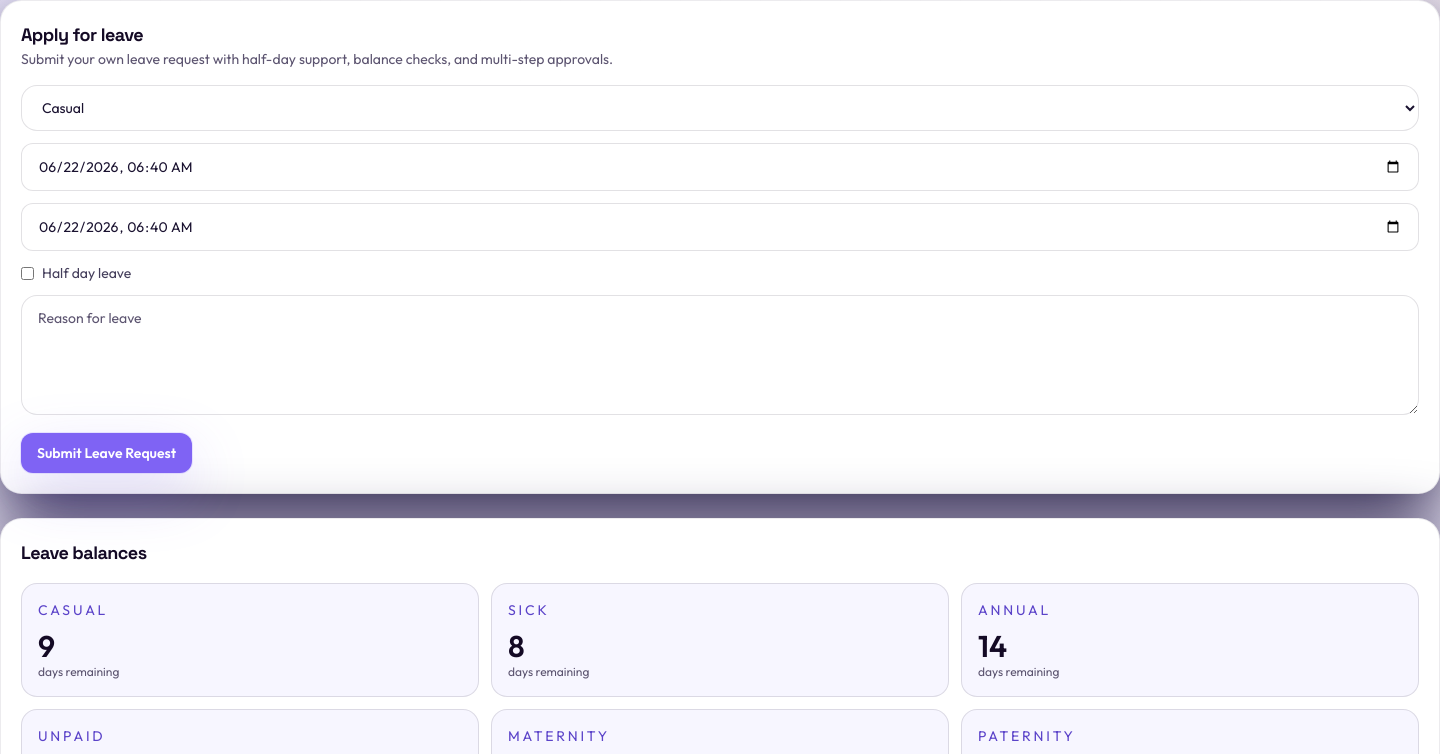
LeavePage › submits a leave request for an employee user
Select "Annual" in the dropdown at (720, 108), box x1=21 y1=85 x2=1419 y2=131
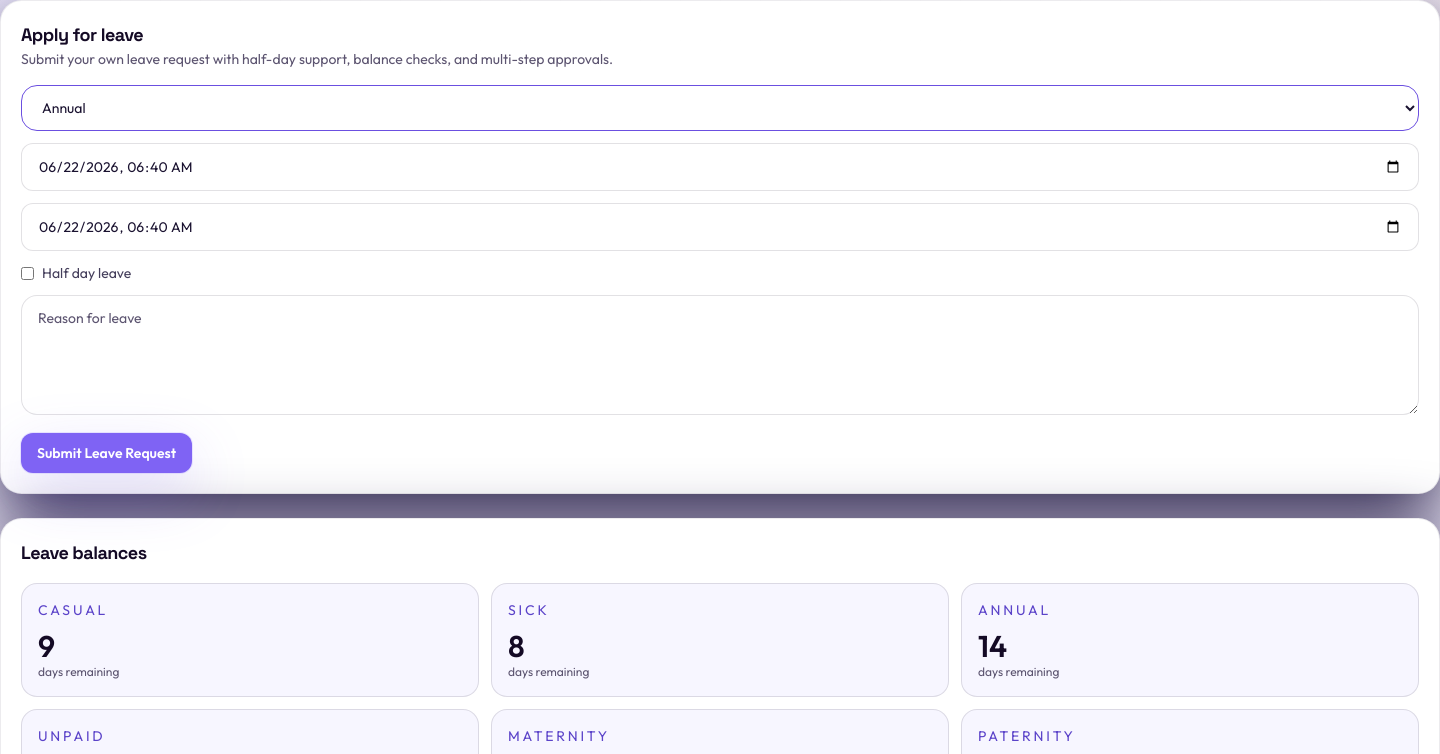
Type "Annual leave for family travel" into the text box with placeholder "Reason for leave".
click(720, 355); type("Annual leave for family travel")  # box x1=21 y1=295 x2=1419 y2=415
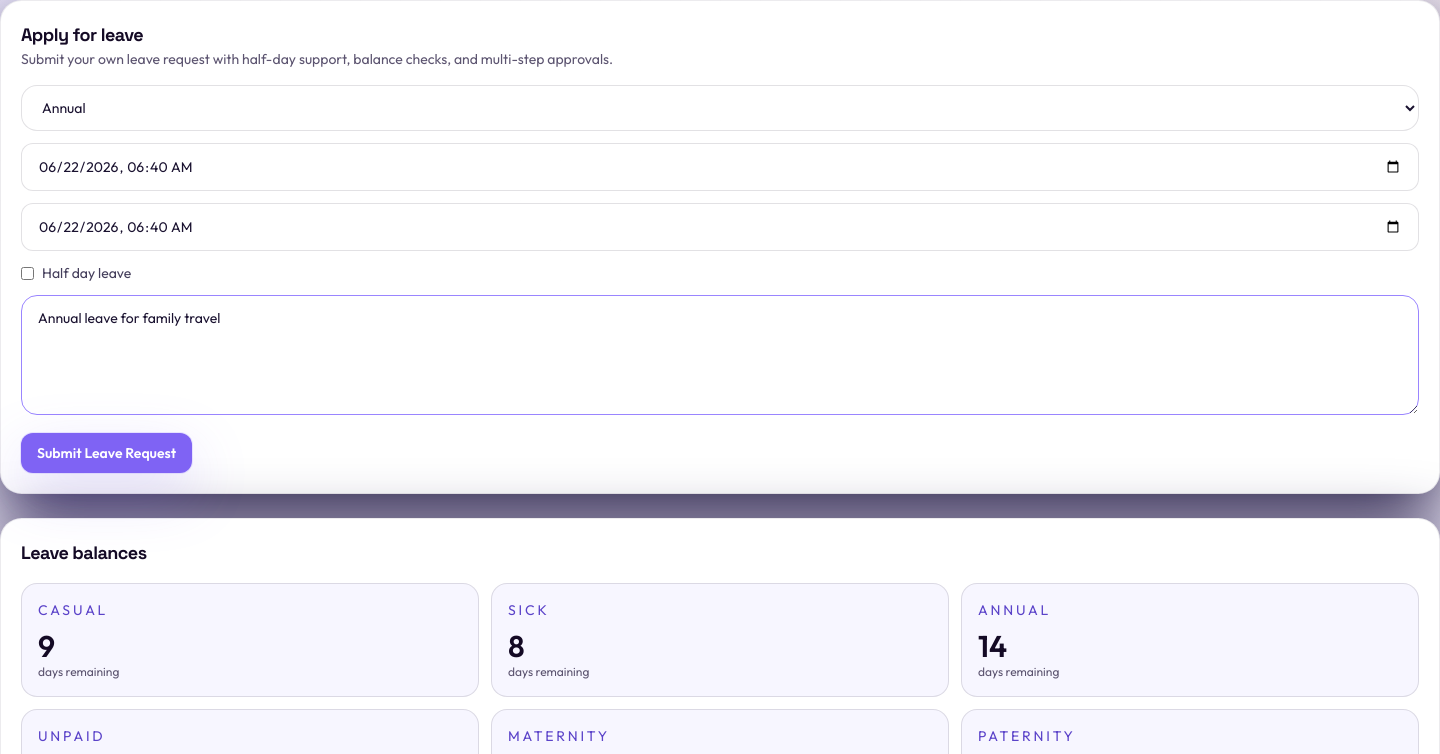
Click the button "Submit Leave Request".
click(107, 453)  # box x1=21 y1=433 x2=192 y2=473
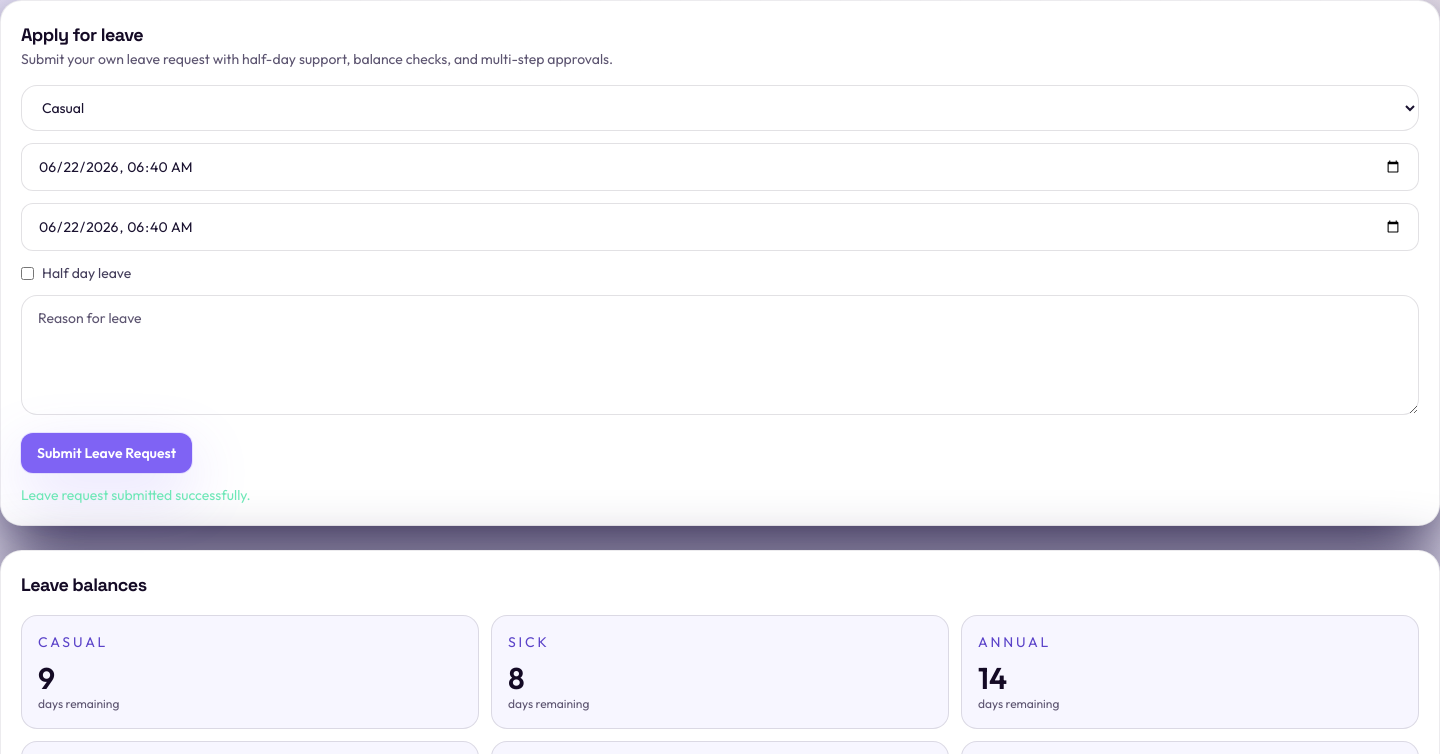
Now the text "Leave request submitted successfully." is shown, box x1=21 y1=486 x2=251 y2=504
